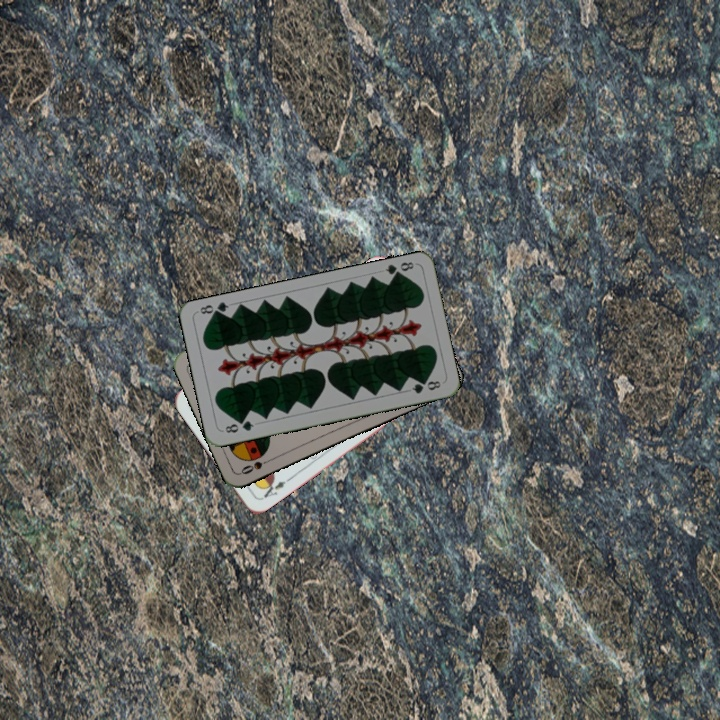EA: (257, 476, 288, 503)
G8: (381, 258, 416, 281), (219, 416, 256, 436)
SO: (237, 454, 276, 477)
